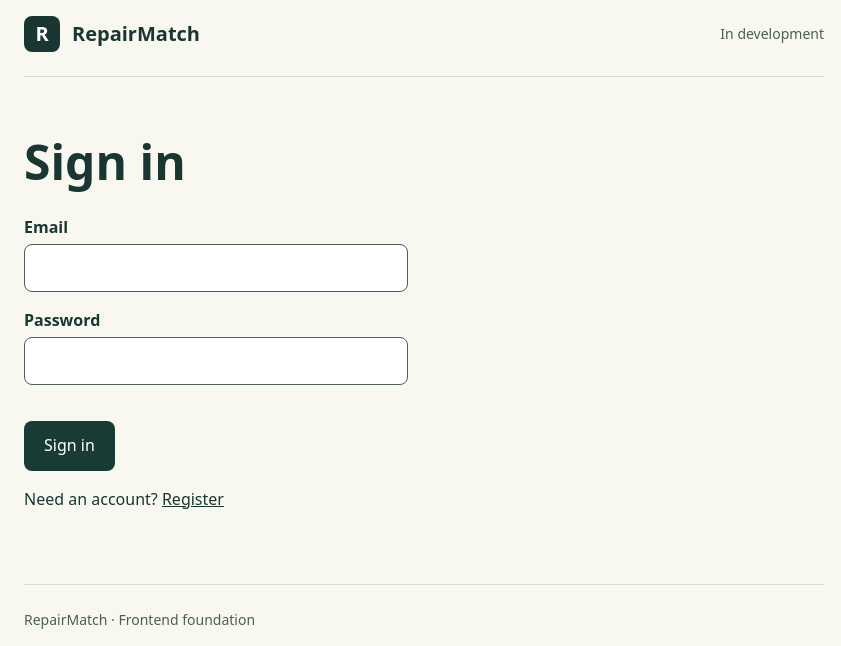
Test: after signing in › goes to the technician home
Type "technician@example.test" into the field labelled "Email" at (216, 268), box left=24, top=244, right=408, bottom=292
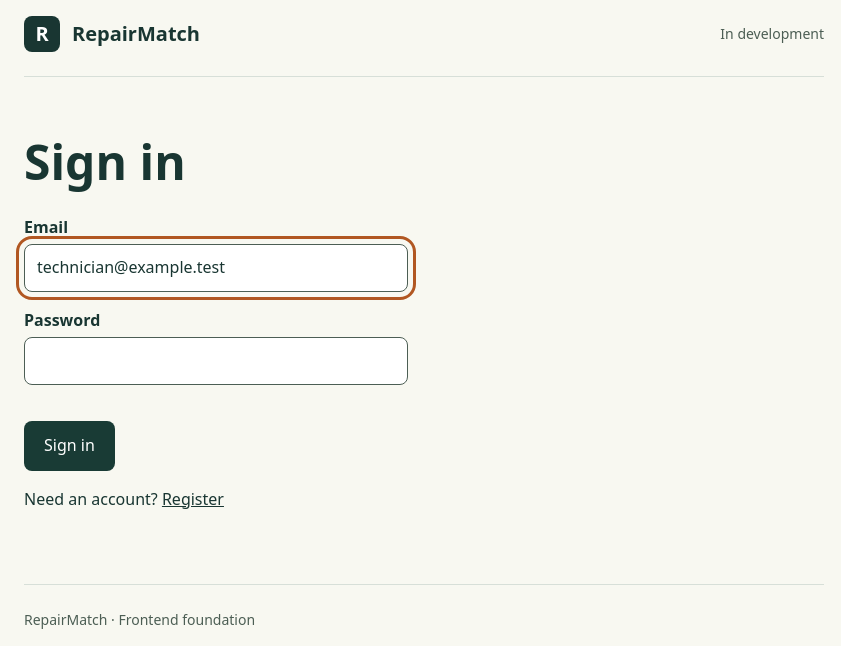
Type "Test-pass-1" into the password field labelled "Password" at (216, 361), box left=24, top=337, right=408, bottom=385
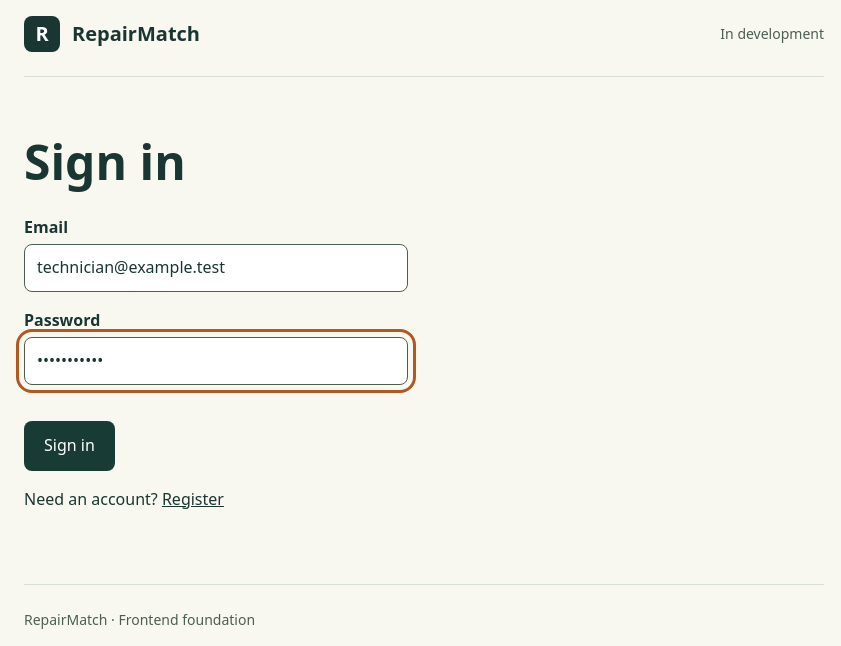
Click the button "Sign in" at (69, 446), box left=24, top=421, right=115, bottom=471
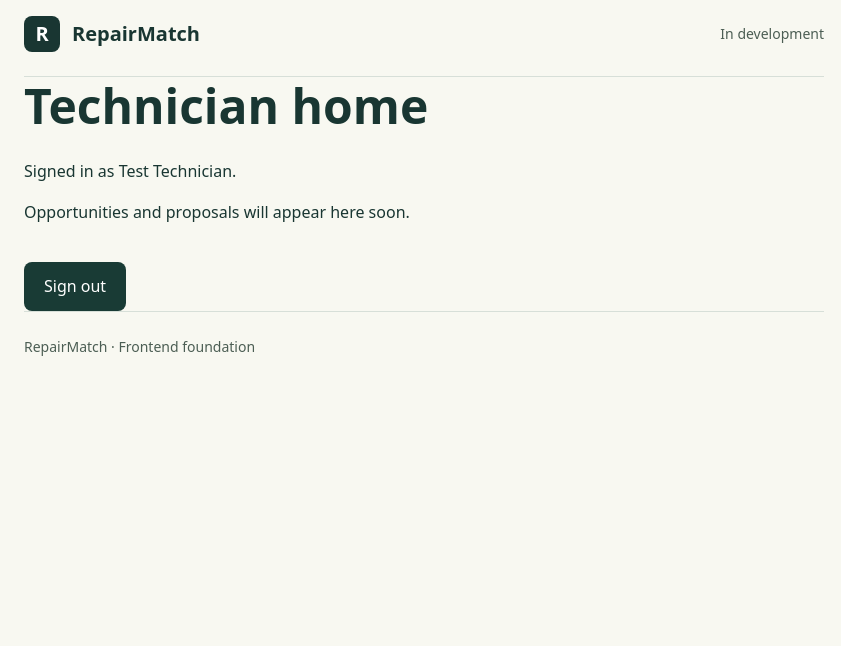
Expected: the heading "Technician home" is shown, left=24, top=73, right=428, bottom=138
